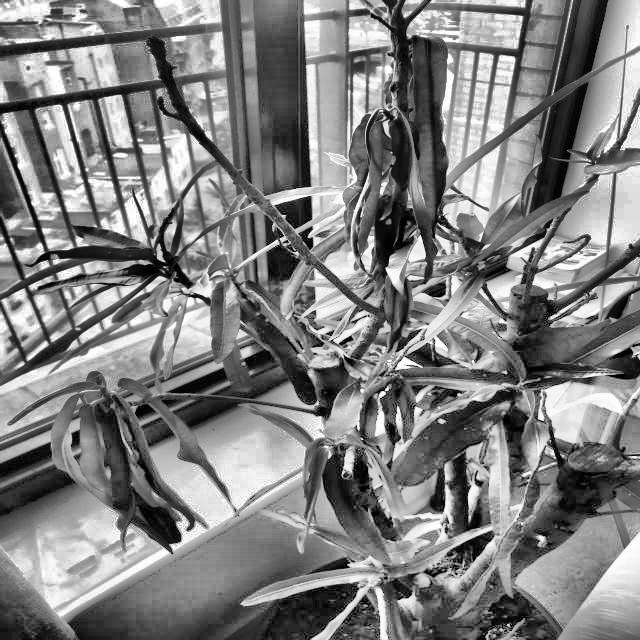plants: (48, 28, 639, 639), (32, 366, 212, 556), (326, 92, 450, 265)
